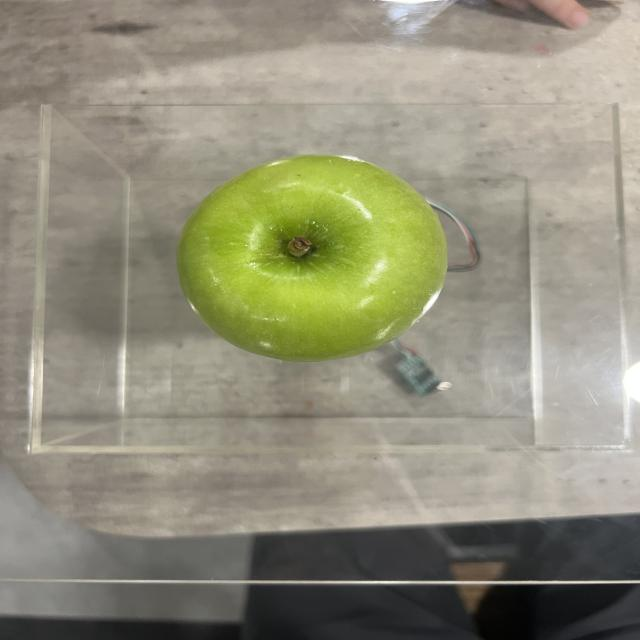green apple: (182, 156, 448, 362)
